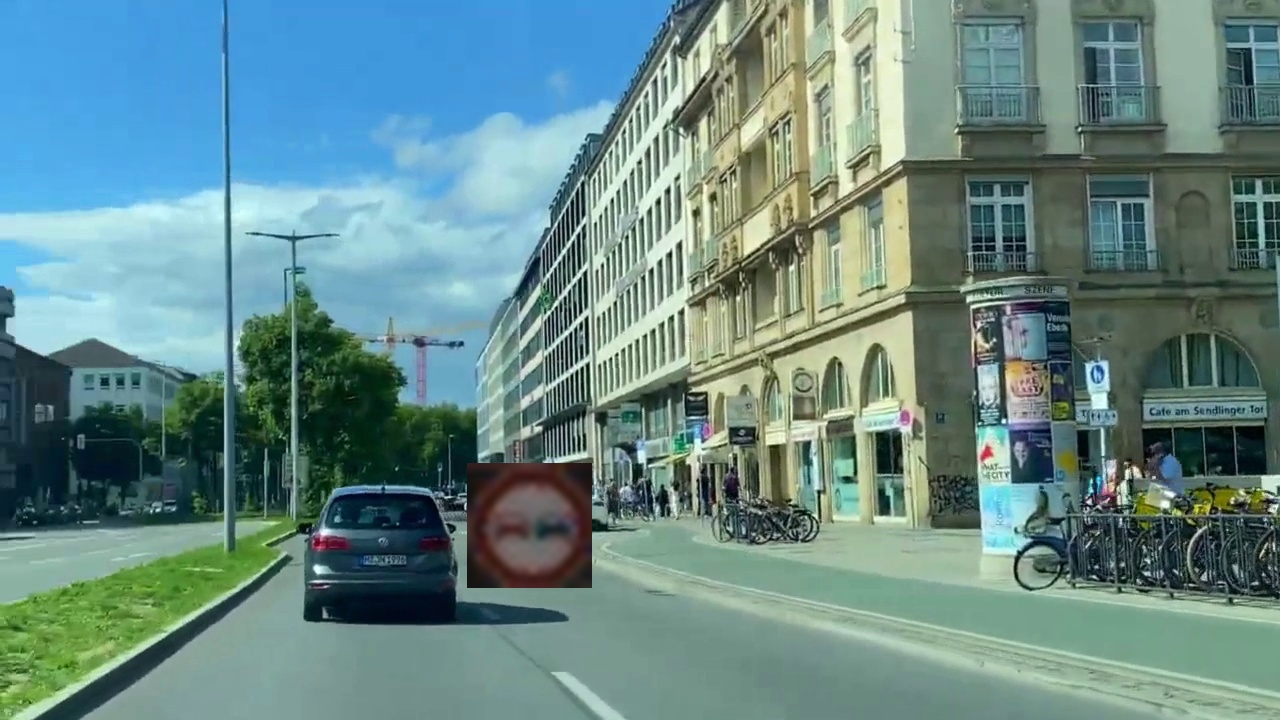No passing: (467, 463, 592, 588)
